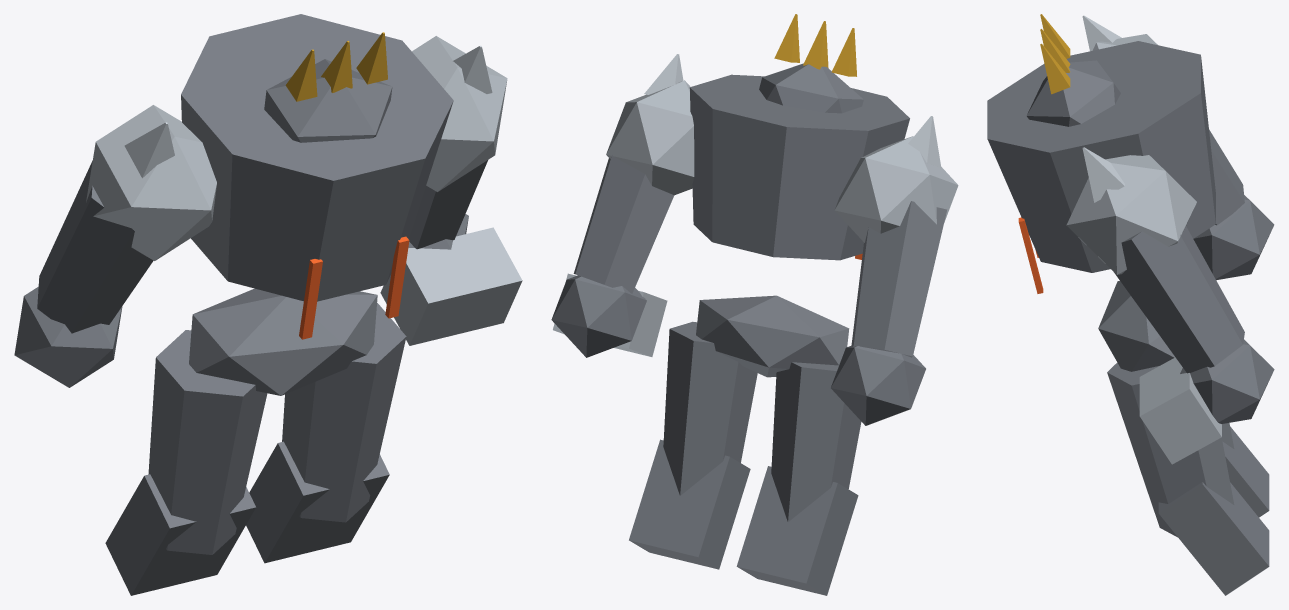
File: npcpose_colossus_attack_04.glb
3 renders of one model, left to right at view 1: azimuth 30°, elevation 25°; view 2: azimuth 150°, elevation 25°; view 3: azimuth 270°, elevation 25°, orthographic. The views are drawn at different scales.
Visible parts, largest first — view 1: npcpose; view 2: npcpose; view 3: npcpose.
Part boxes in pixels (x1,y1,x2,y2): npcpose: (14, 14, 522, 595); npcpose: (551, 14, 958, 595); npcpose: (987, 14, 1274, 595).
Size of the model in its own units: 2.3 by 2.95 by 1.47.
